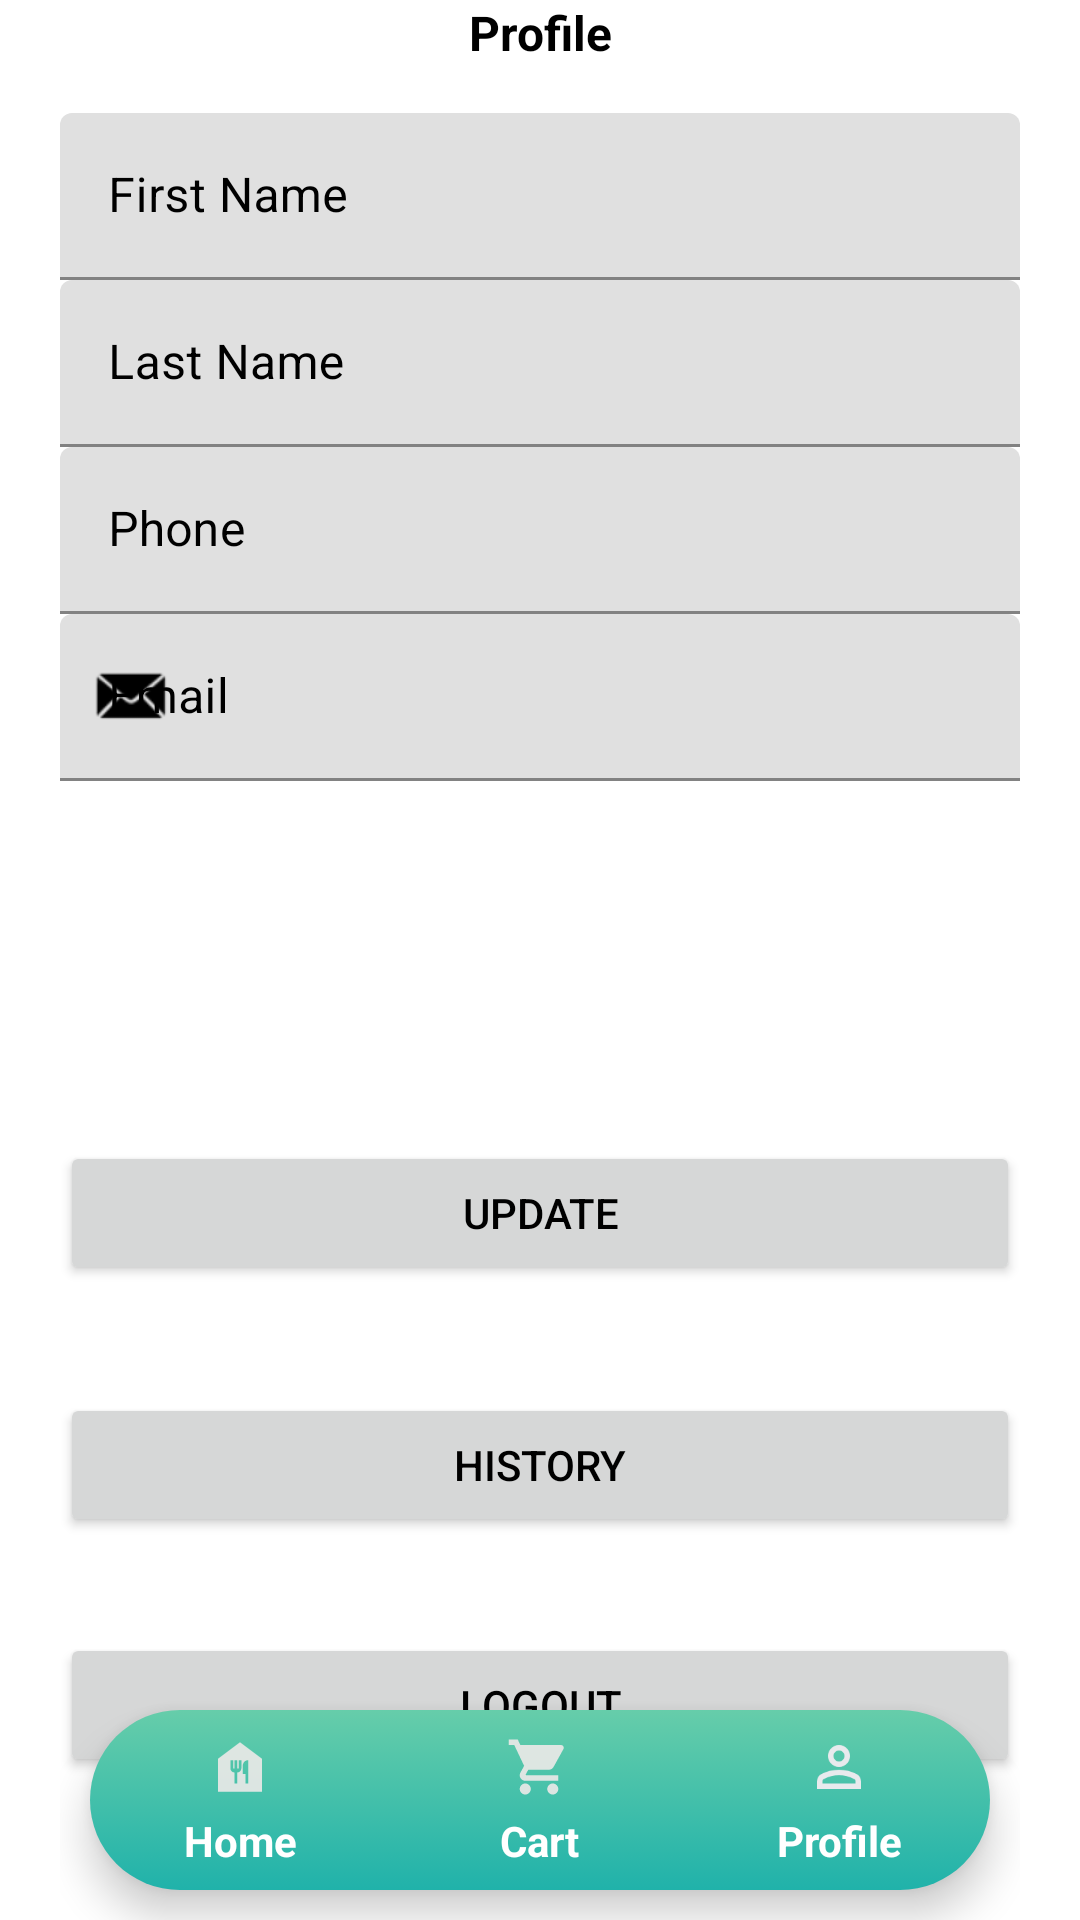

Icons on this 1080 x 1920 Android screen, each with the point to tap as (x,y):
food bank: (240,1771)
person: (839,1772)
